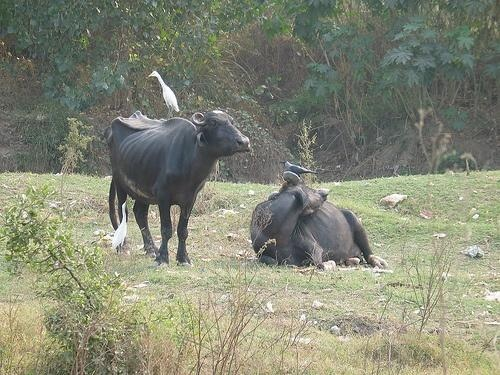bird: (146, 70, 181, 119), (111, 201, 131, 256), (277, 160, 317, 180)
cow: (107, 110, 253, 268), (252, 170, 388, 279)
